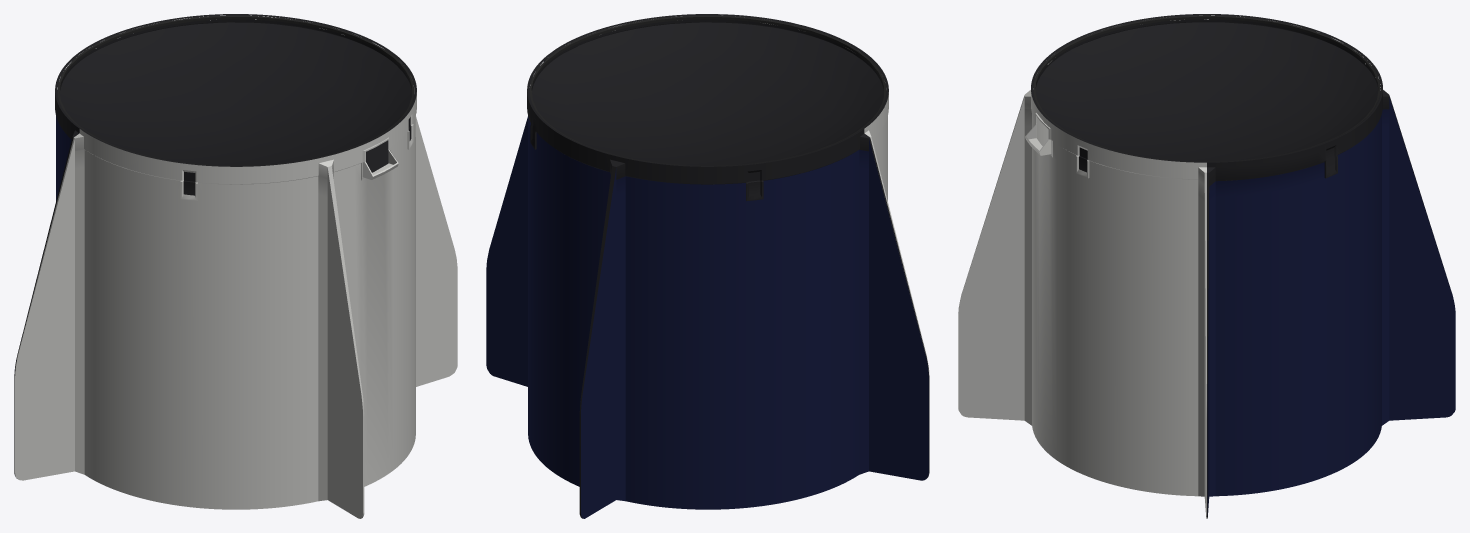
Rendered from dragon-dragon-2-trunk.glb.
The picture shows the model from 3 angles, left to right: view 1: azimuth 30°, elevation 25°; view 2: azimuth 150°, elevation 25°; view 3: azimuth 270°, elevation 25°; orthographic projection. The views are drawn at different scales.
Parts seen in each view (by area): view 1: trunk; view 2: trunk; view 3: trunk.
Part boxes in pixels (box(x1,y1,x2,y2)): trunk: box(14, 14, 457, 518); trunk: box(486, 14, 929, 518); trunk: box(958, 14, 1455, 518).
Bounding box in the file's own units: 5.29 × 3.92 × 5.29.
